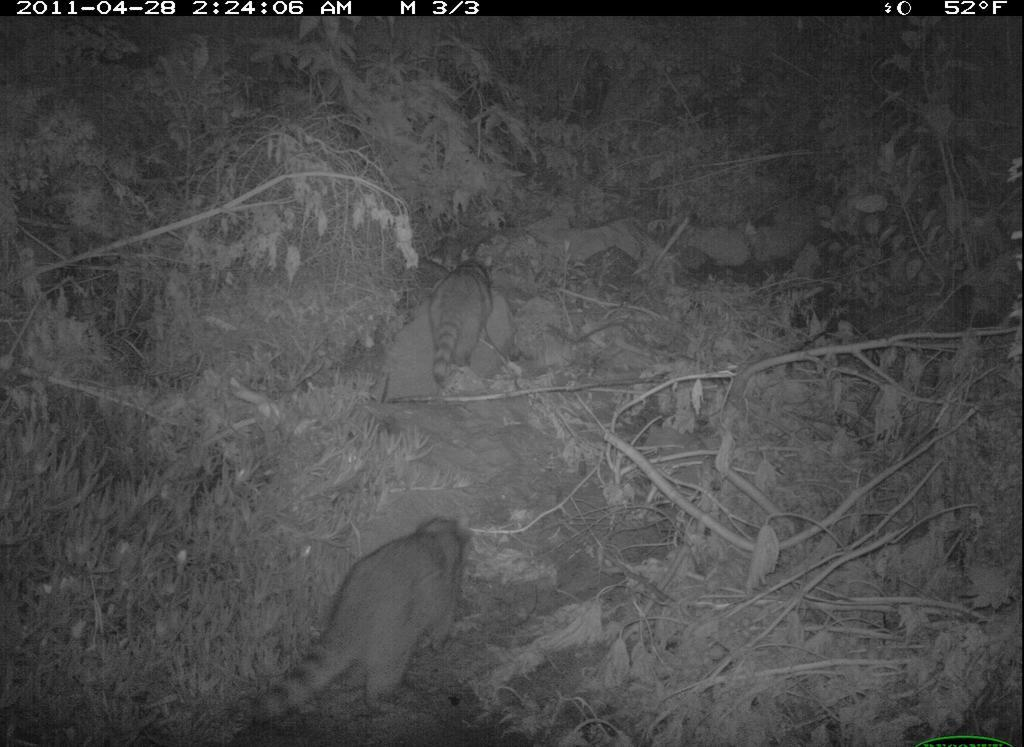raccoon: (237, 498, 482, 739), (419, 235, 521, 397)
